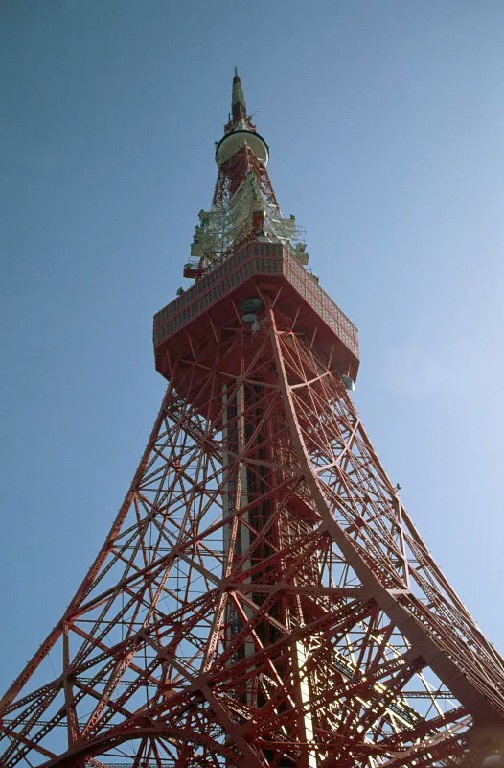Tokyo: (6, 62, 502, 767)
